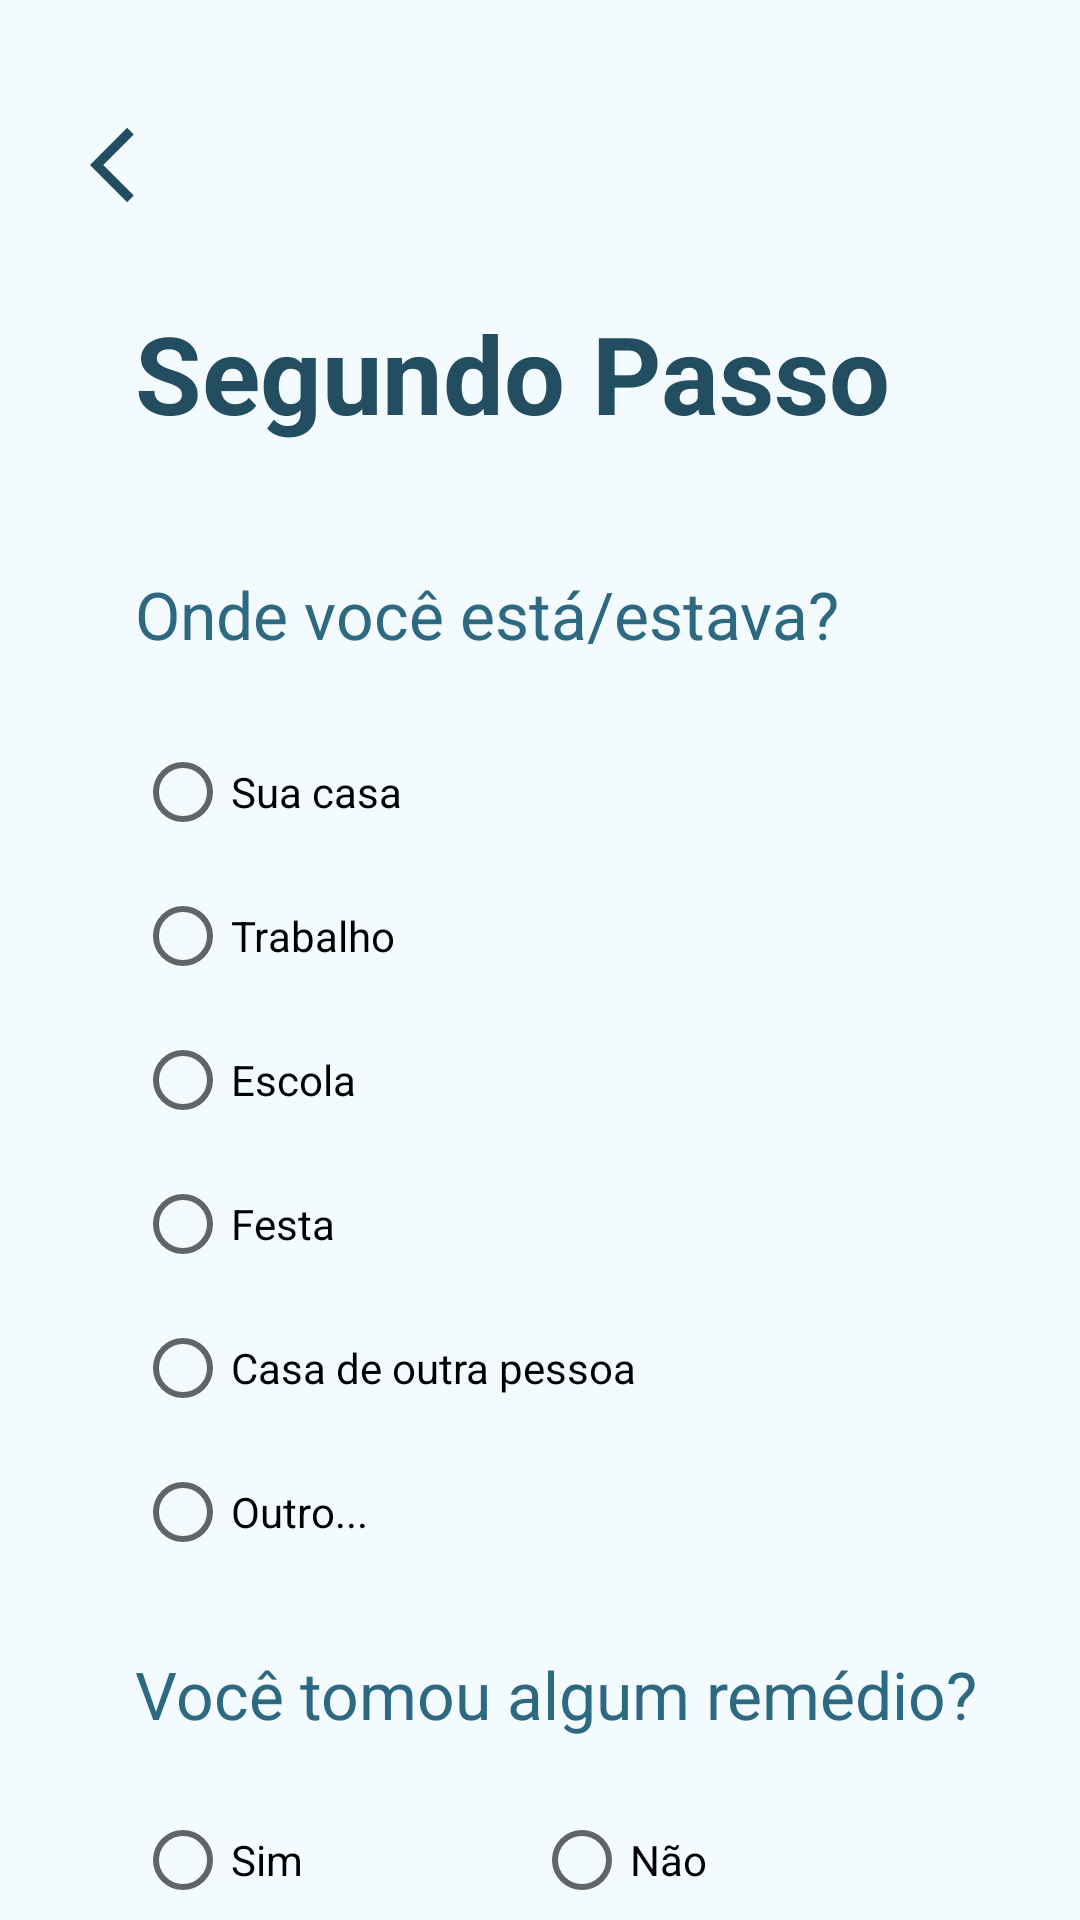

Screen size 1080 x 1920. Icon name, then its center in pixels as [x,y]:
voltarrr: [112,165]
